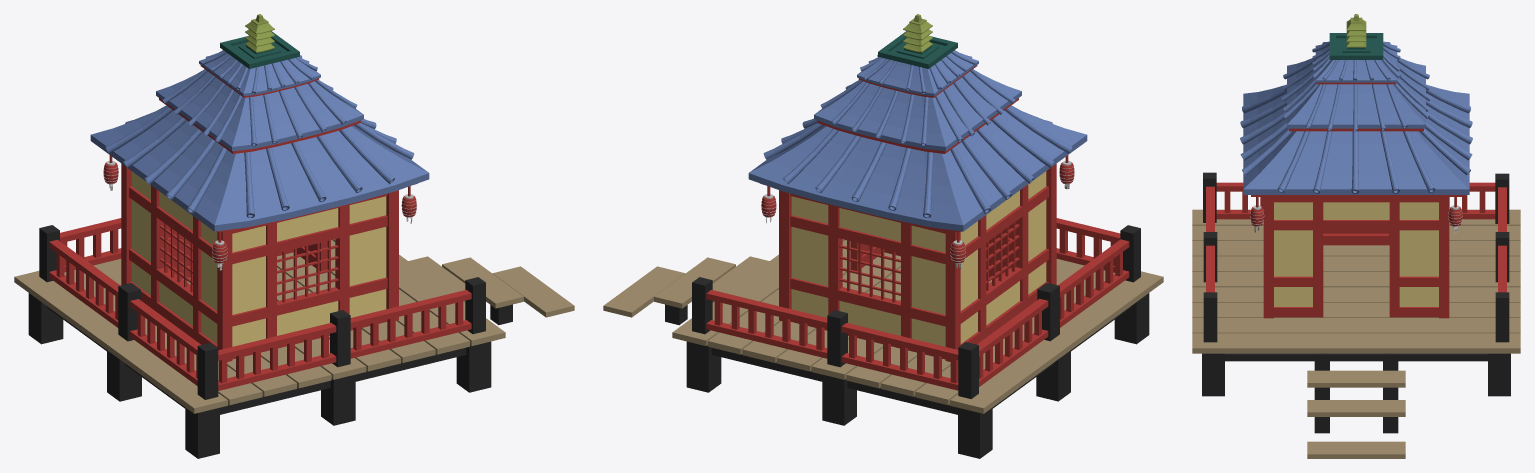
File: House1Asia.fbx
3 renders of one model, left to right at view 1: azimuth 30°, elevation 25°; view 2: azimuth 150°, elevation 25°; view 3: azimuth 270°, elevation 25°, orthographic. The views are drawn at different scales.
Visible parts, largest first — view 1: Plane.033; view 2: Plane.033; view 3: Plane.033.
Boxes of the visible parts, <box> form: Plane.033: <box>14,14,574,458</box>; Plane.033: <box>603,14,1163,458</box>; Plane.033: <box>1192,14,1520,458</box>.
Size of the model in its own units: 2284 by 1708 by 1604.
